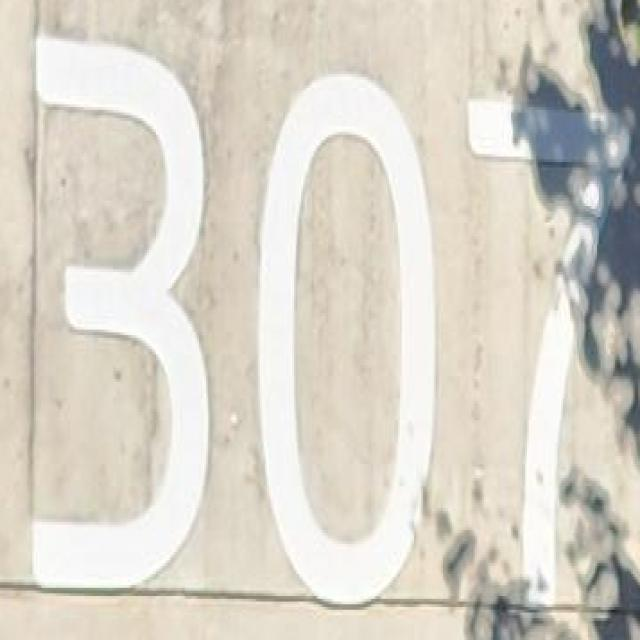character: (25, 23, 228, 598), (254, 64, 440, 614), (462, 89, 640, 617)
